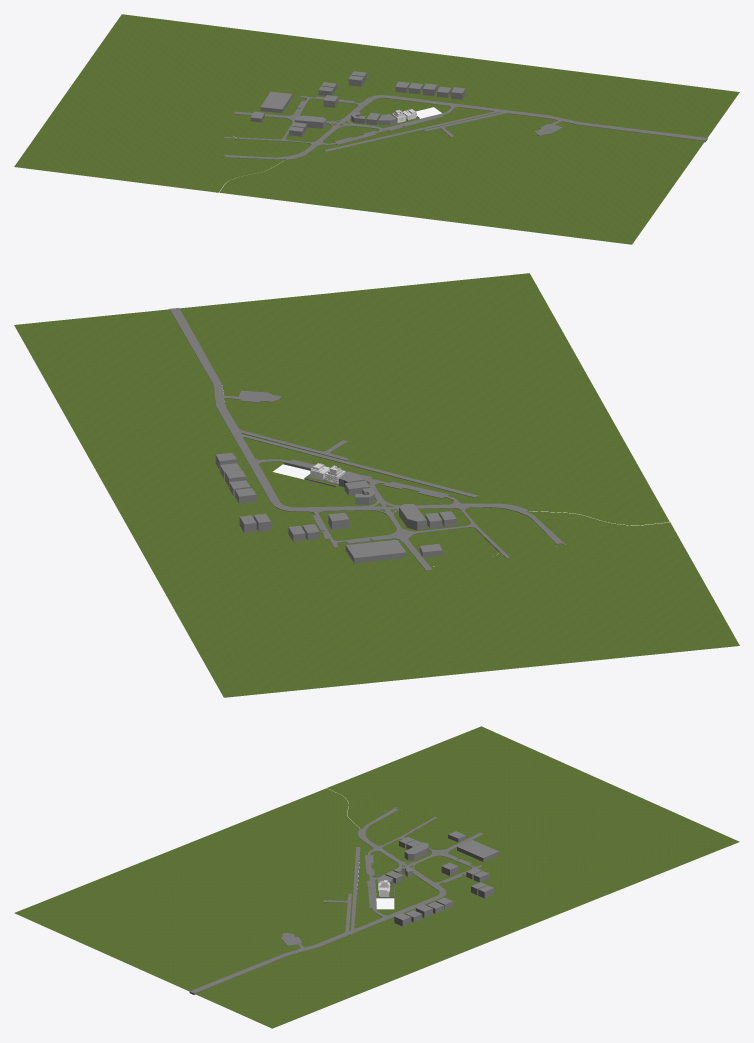
File: Ayana_ground.glb
The picture shows the model from 3 angles, top to bottom: view 1: azimuth 30°, elevation 25°; view 2: azimuth 150°, elevation 25°; view 3: azimuth 270°, elevation 25°; orthographic projection. The views are drawn at different scales.
Parts seen in each view (by area): view 1: tree, road, build; view 2: tree, road, build; view 3: tree, road, build.
Part boxes in pixels (x1=…): tree: x1=14, y1=14, x2=739, y2=244; road: x1=223, y1=95, x2=707, y2=159; build: x1=250, y1=71, x2=465, y2=136; tree: x1=14, y1=273, x2=739, y2=697; road: x1=169, y1=308, x2=565, y2=570; build: x1=215, y1=452, x2=456, y2=563; tree: x1=14, y1=726, x2=739, y2=1028; road: x1=189, y1=807, x2=483, y2=994; build: x1=377, y1=831, x2=498, y2=926.
Size of the model in its own units: 2037 by 32.48 by 2066.
Materials: 4 (1 with a texture image).
